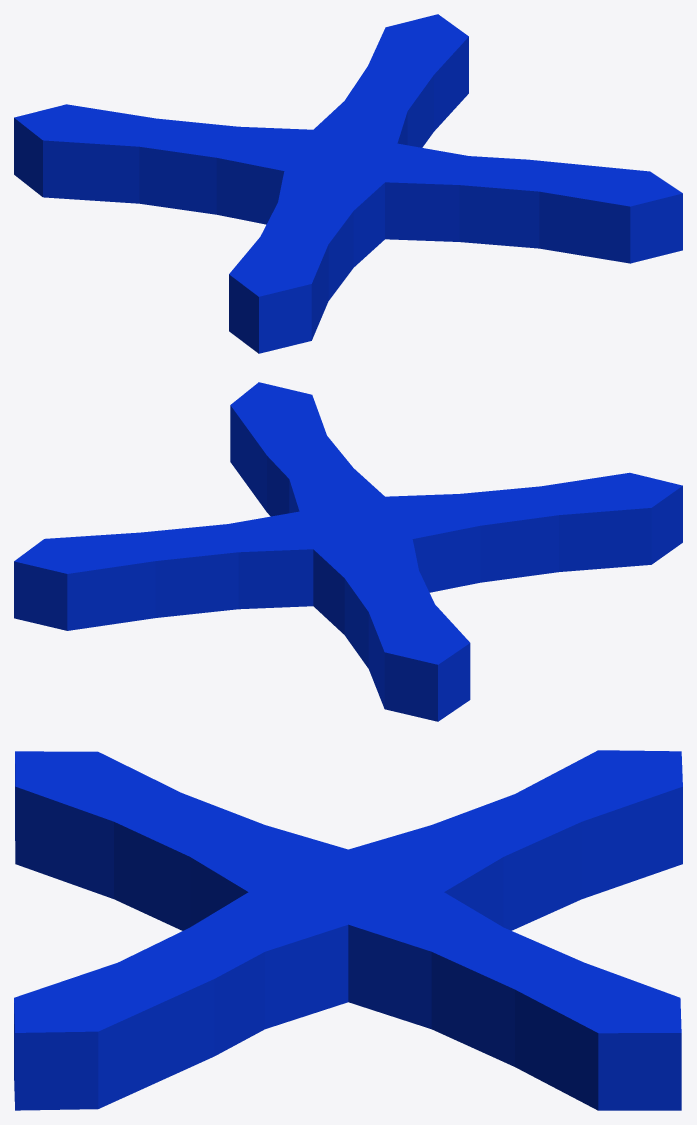
Rendered from spot.dae.
The picture shows the model from 3 angles, top to bottom: view 1: azimuth 30°, elevation 25°; view 2: azimuth 150°, elevation 25°; view 3: azimuth 270°, elevation 25°; orthographic projection. The views are drawn at different scales.
Visible parts, largest first — view 1: Cube; view 2: Cube; view 3: Cube.
Part boxes in pixels (box(x1,y1,x2,y2)): Cube: box(14, 14, 682, 353); Cube: box(14, 382, 682, 721); Cube: box(14, 750, 682, 1110).
Size of the model in its own units: 2.01 by 2.01 by 0.2568.
